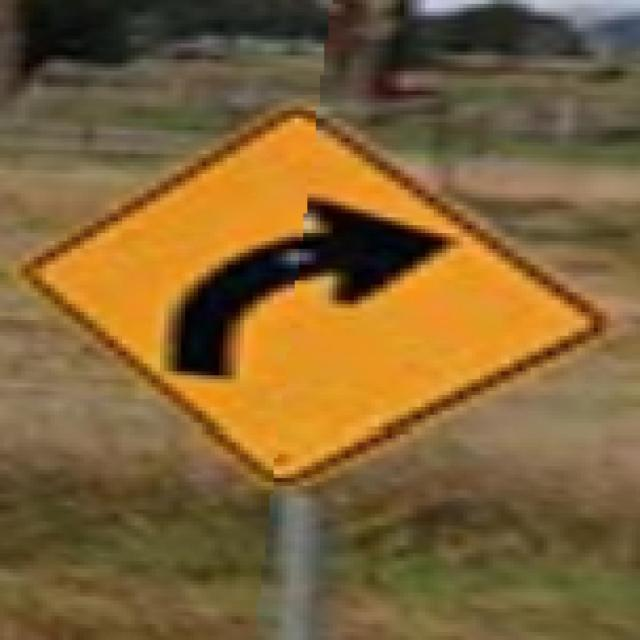Tikungan Ke Kanan: (8, 95, 610, 494)
